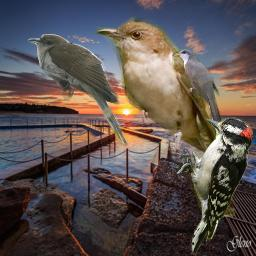Cuckoo: (94, 17, 236, 221), (28, 34, 128, 148), (172, 48, 224, 131)
Woodpecker: (177, 115, 253, 255)
